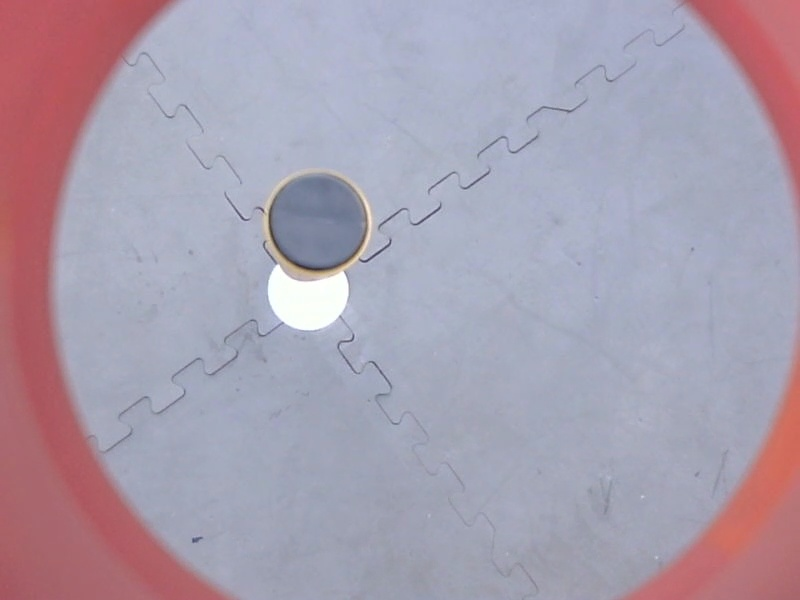tip: (259, 161, 377, 278)
